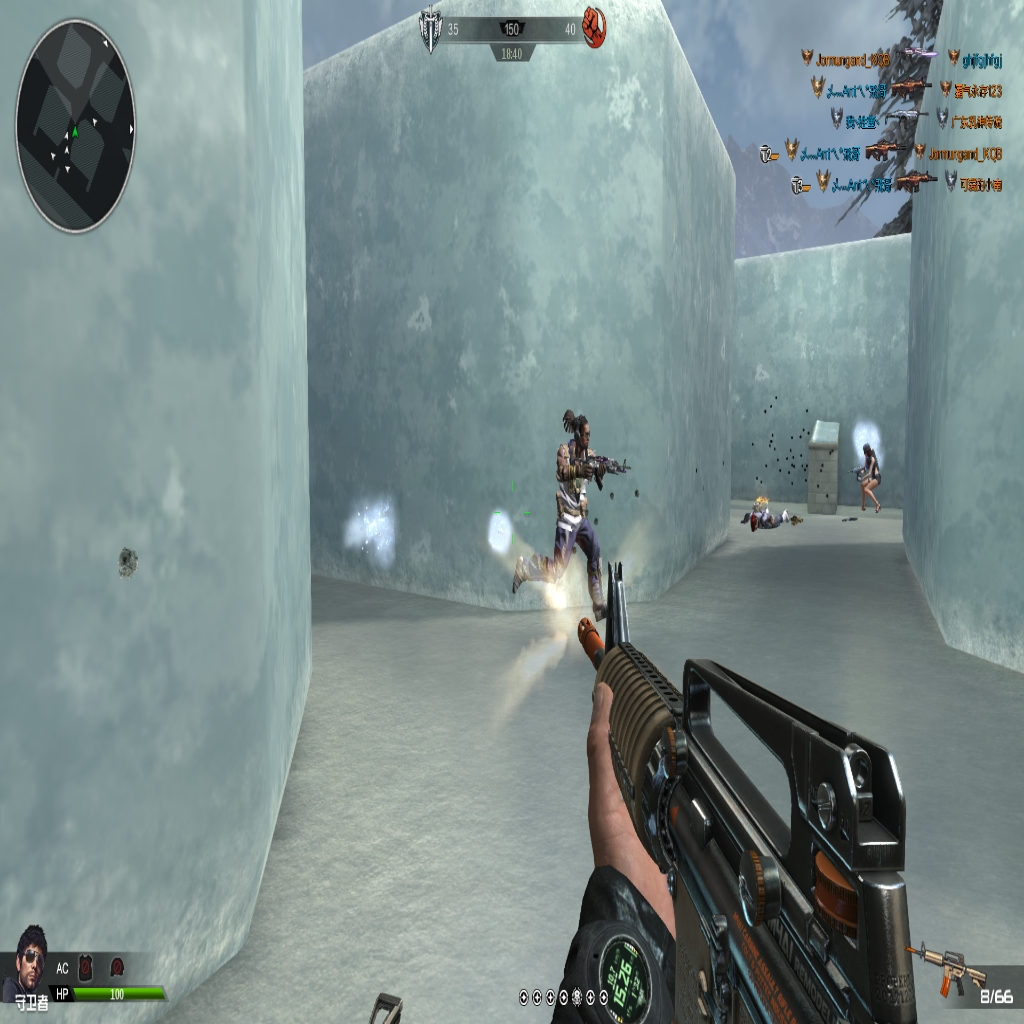ct: (853, 441, 883, 512)
tt: (506, 412, 610, 603)
